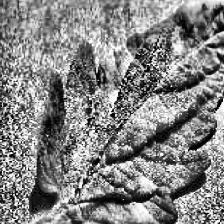leaf mold: (39, 0, 224, 224)
